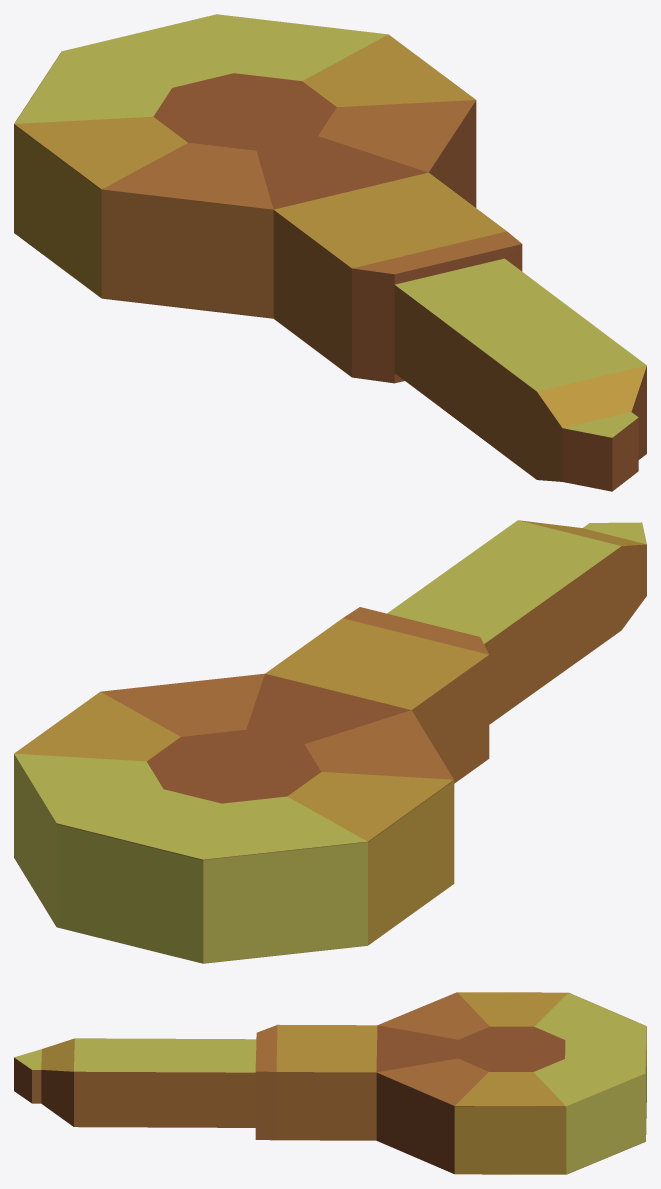
The model's file is Key.fbx.
3 views of the same model, one above another, from view 1: azimuth 30°, elevation 25°; view 2: azimuth 150°, elevation 25°; view 3: azimuth 270°, elevation 25° (orthographic). The views are drawn at different scales.
Visible parts, largest first — view 1: Cylinder.002; view 2: Cylinder.002; view 3: Cylinder.002.
Boxes of the visible parts, x1,y1,x2,y2 form: Cylinder.002: (14,14,646,491); Cylinder.002: (14,520,646,963); Cylinder.002: (14,992,646,1174).
Bounding box in the file's own units: 34 × 9.47 × 79.58.
